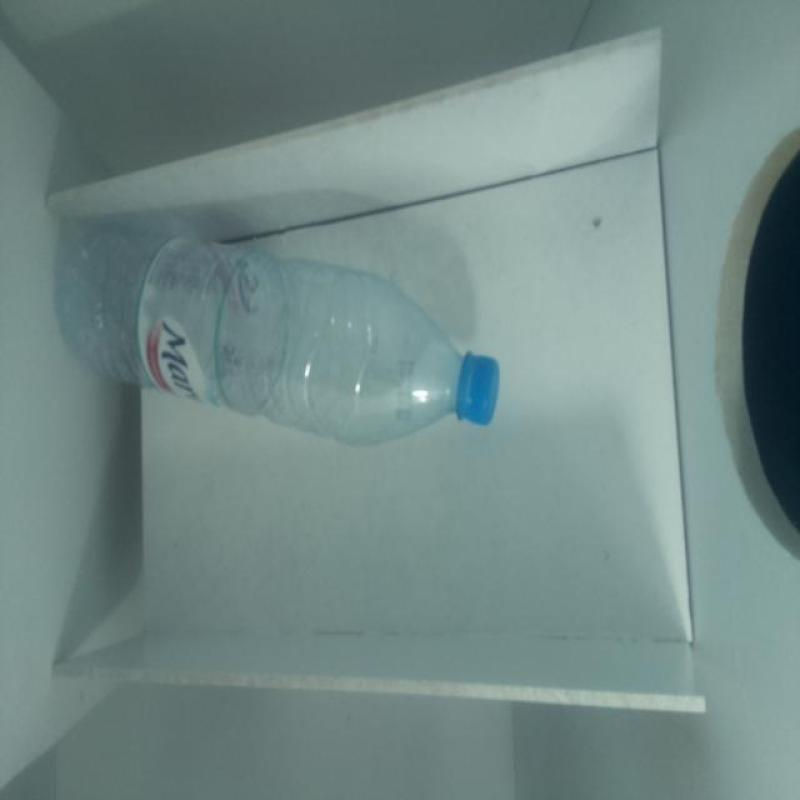botella: (60, 230, 500, 450)
